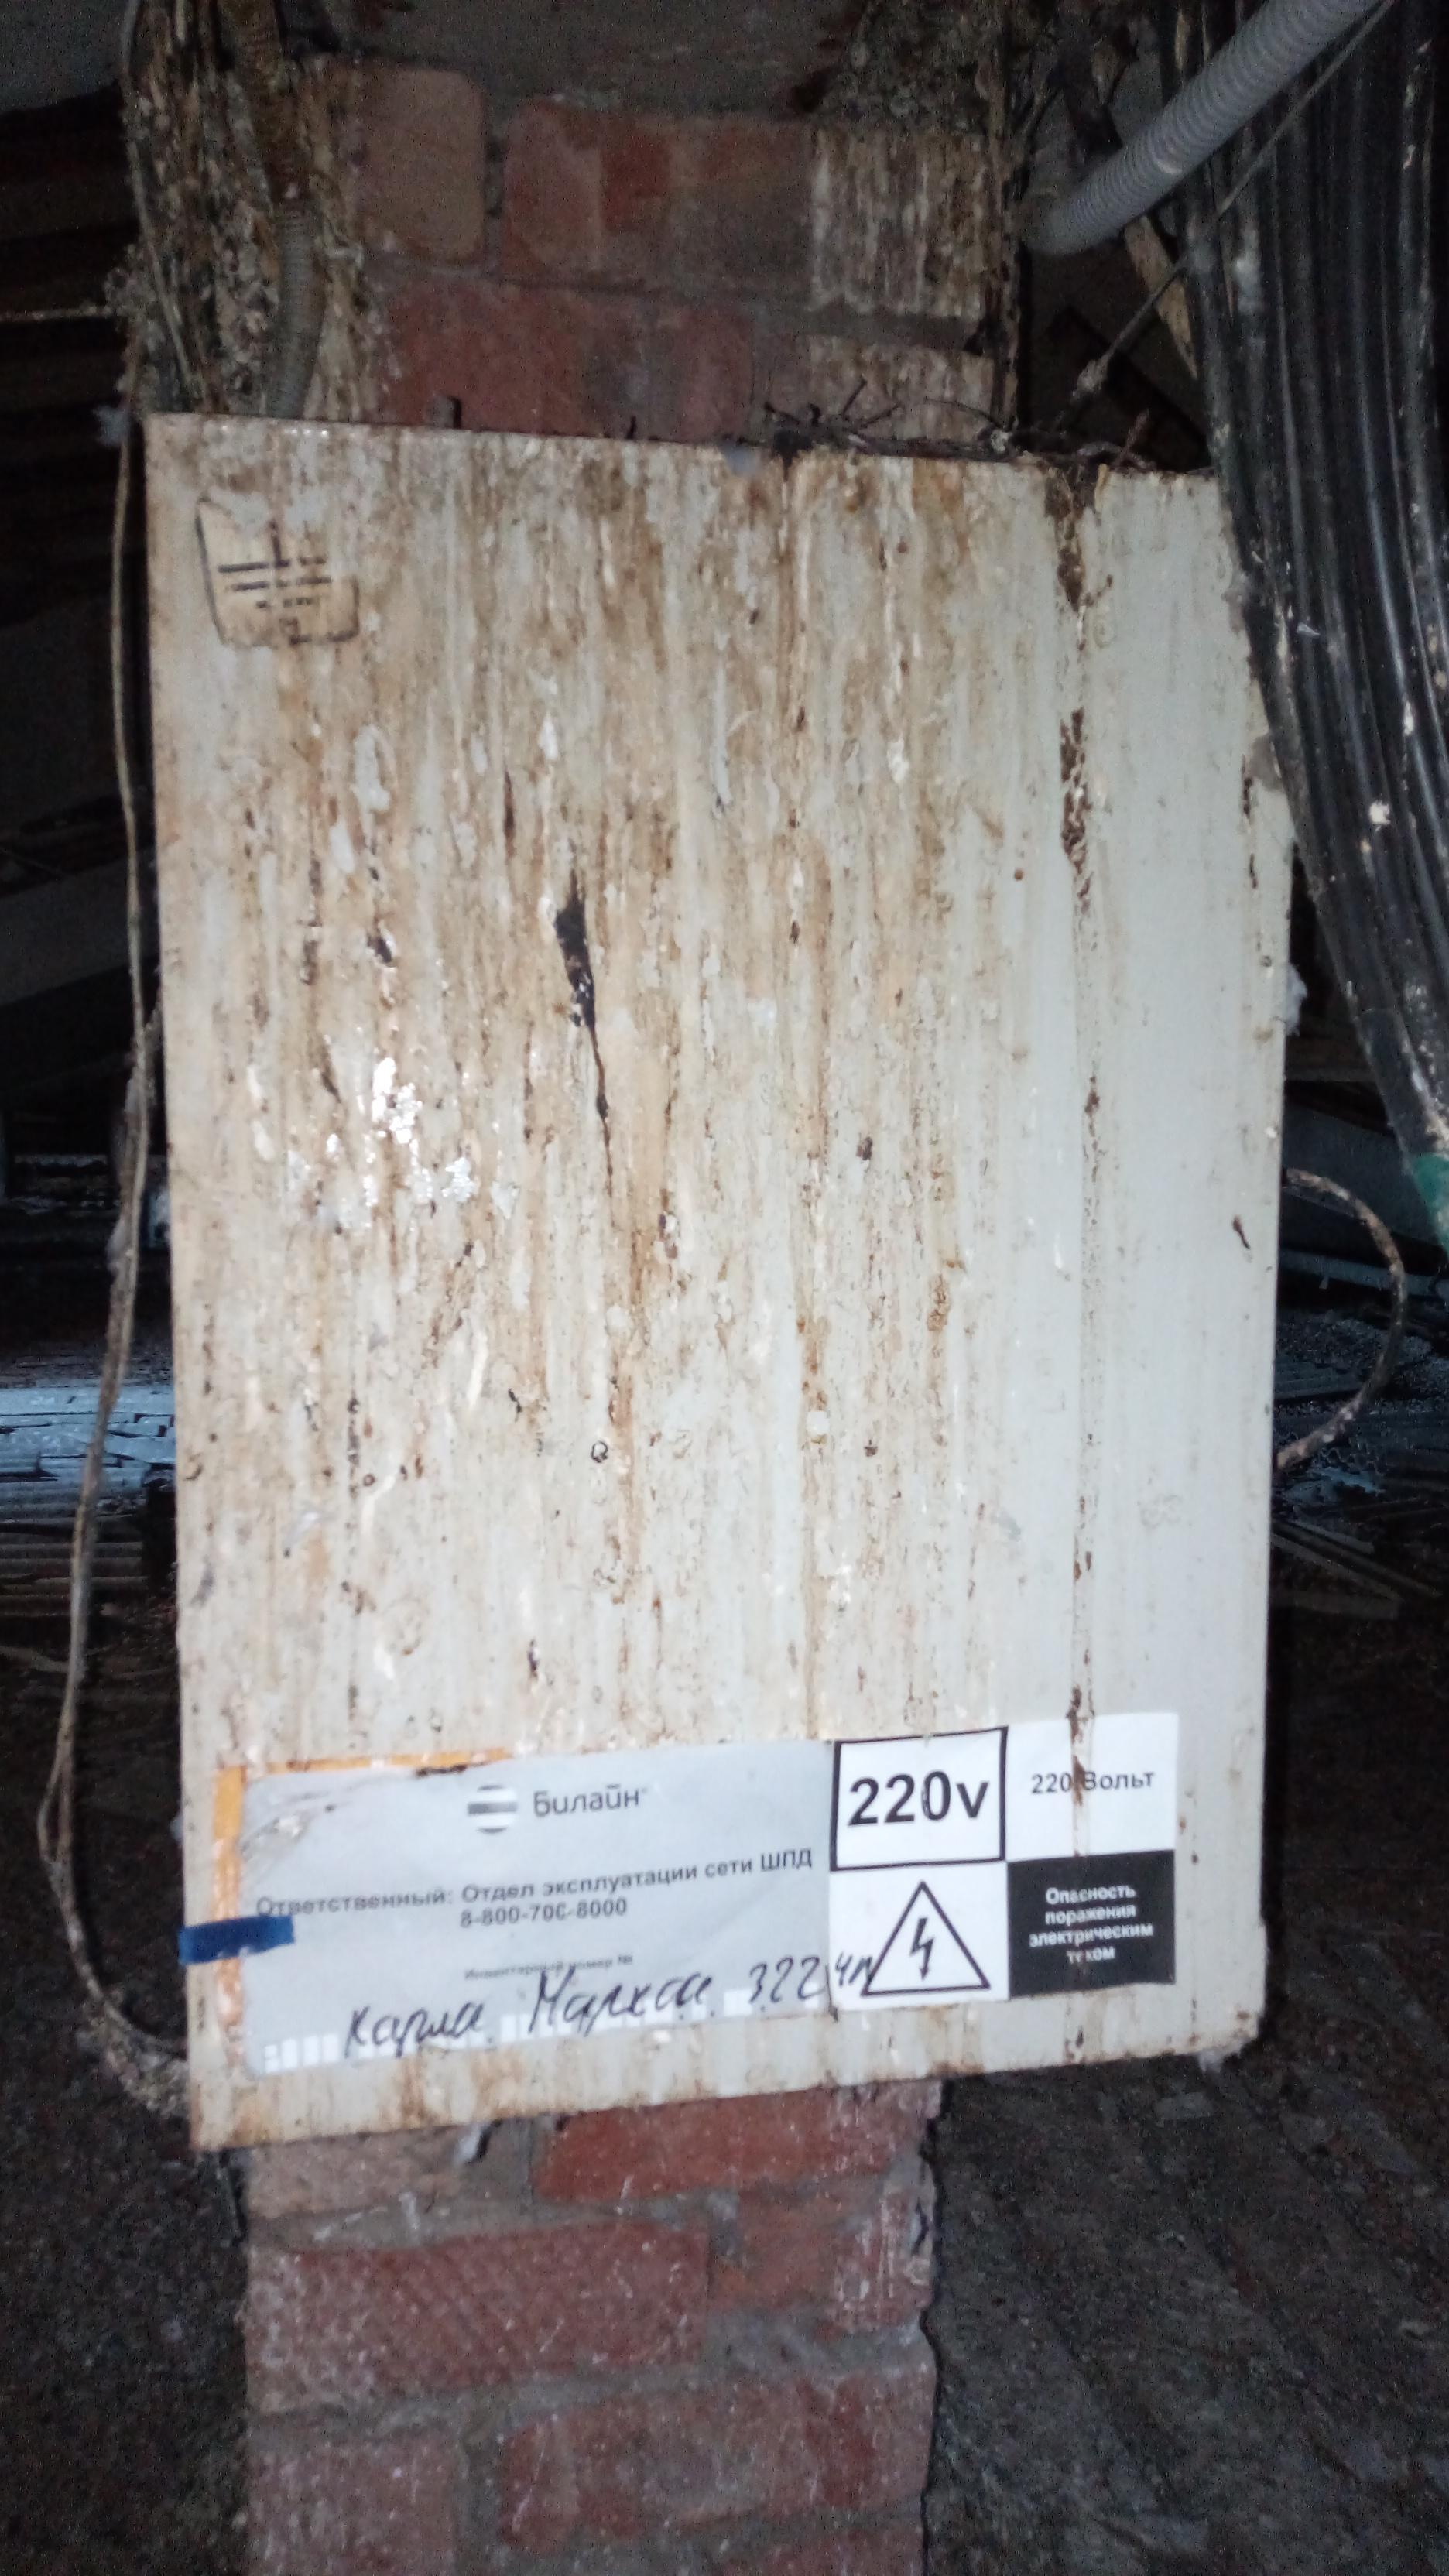sv-5: (119, 384, 1323, 2174)
